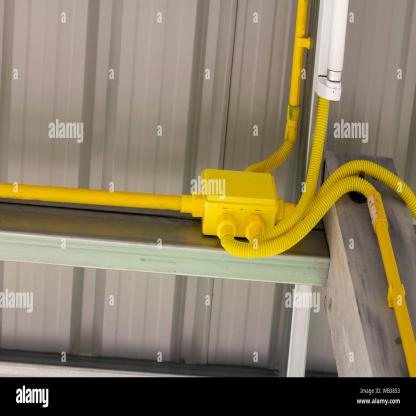PVC: (0, 1, 416, 377)
